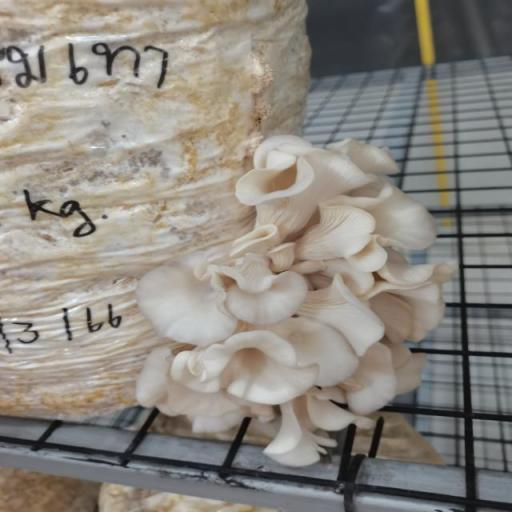White Oyster Mushroom: (141, 130, 465, 472)
